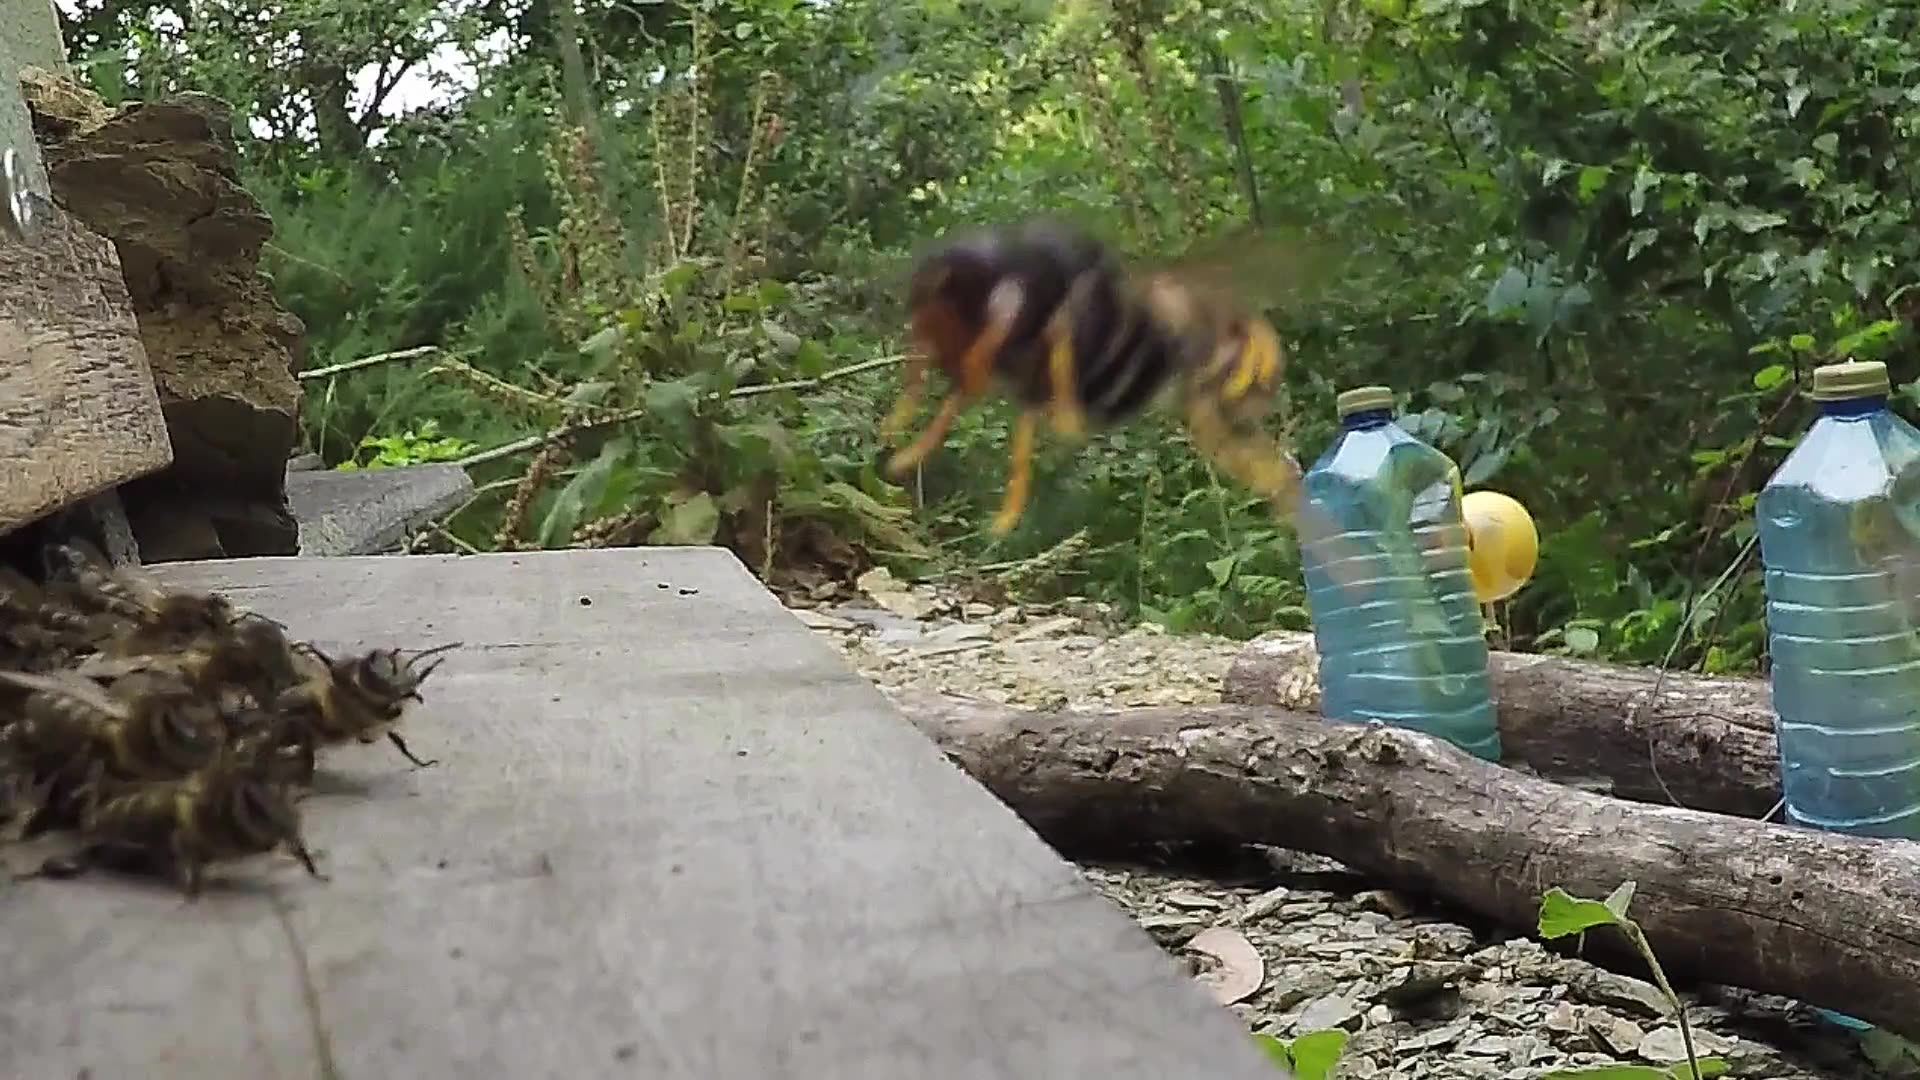bee: (1, 545, 332, 897), (270, 636, 433, 746)
hornet: (878, 174, 1309, 520)
